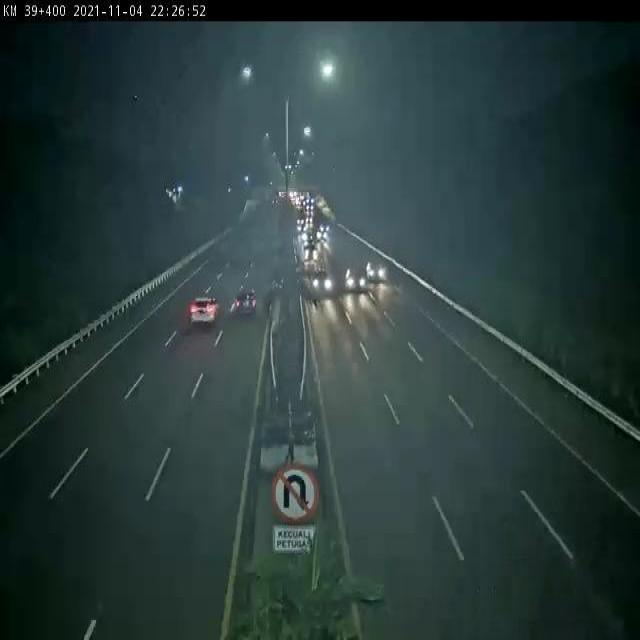car: (189, 296, 220, 325), (341, 261, 366, 295), (232, 285, 257, 316), (367, 257, 388, 288), (309, 270, 330, 298)
